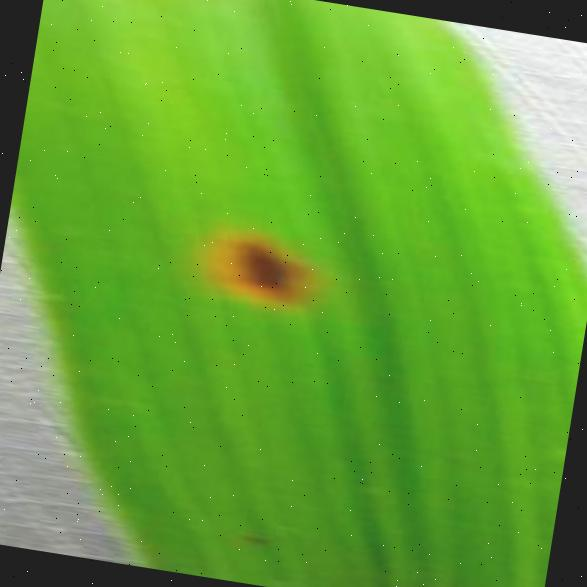Brown_Spot: (196, 207, 334, 325), (226, 518, 284, 562)
